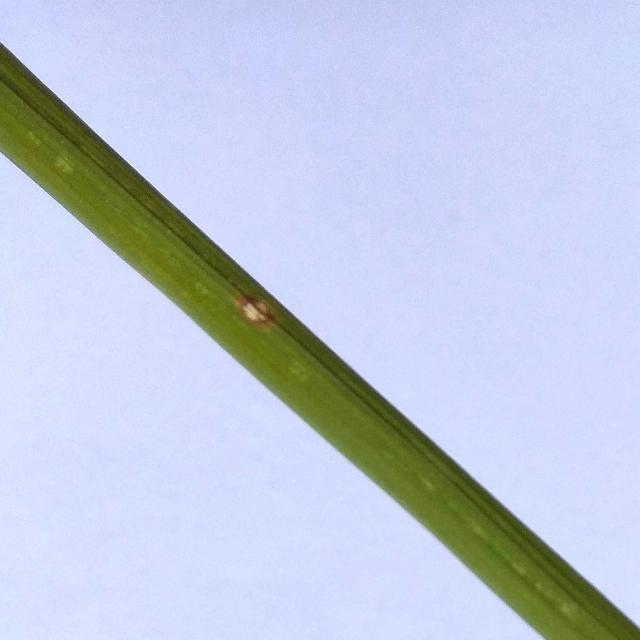Leaf blast: (0, 39, 637, 640)
